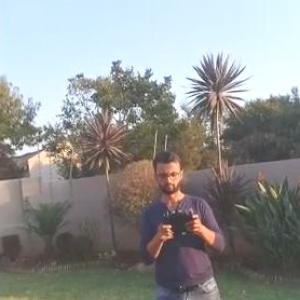follow: (133, 139, 229, 299)
